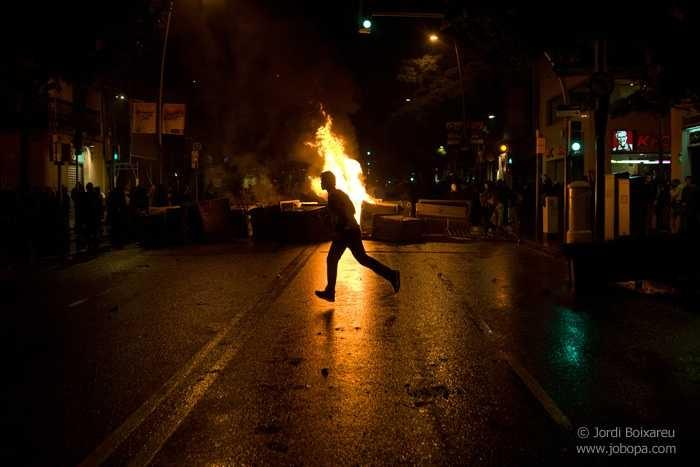fire: (334, 164, 360, 189), (324, 135, 339, 159)
